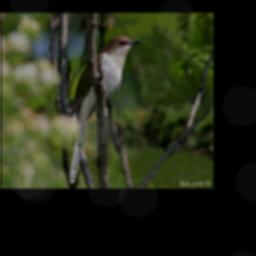Cuckoo: (68, 33, 144, 185)
